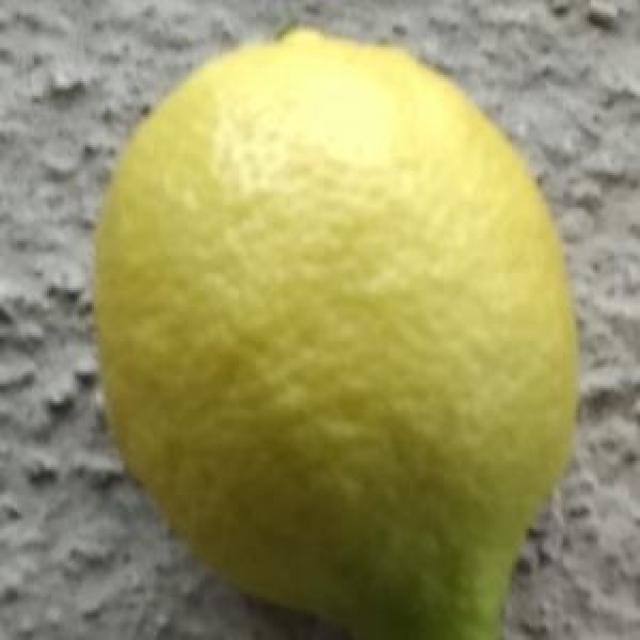lemon: (94, 24, 589, 640)
